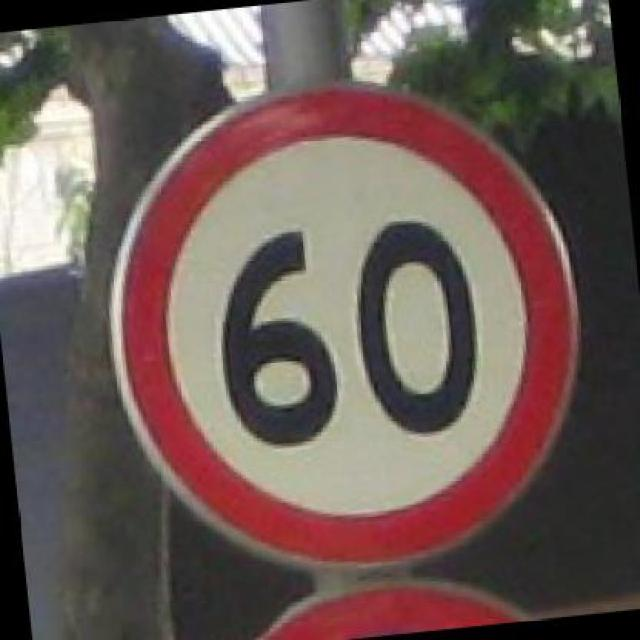Limite-60: (108, 80, 584, 575)
